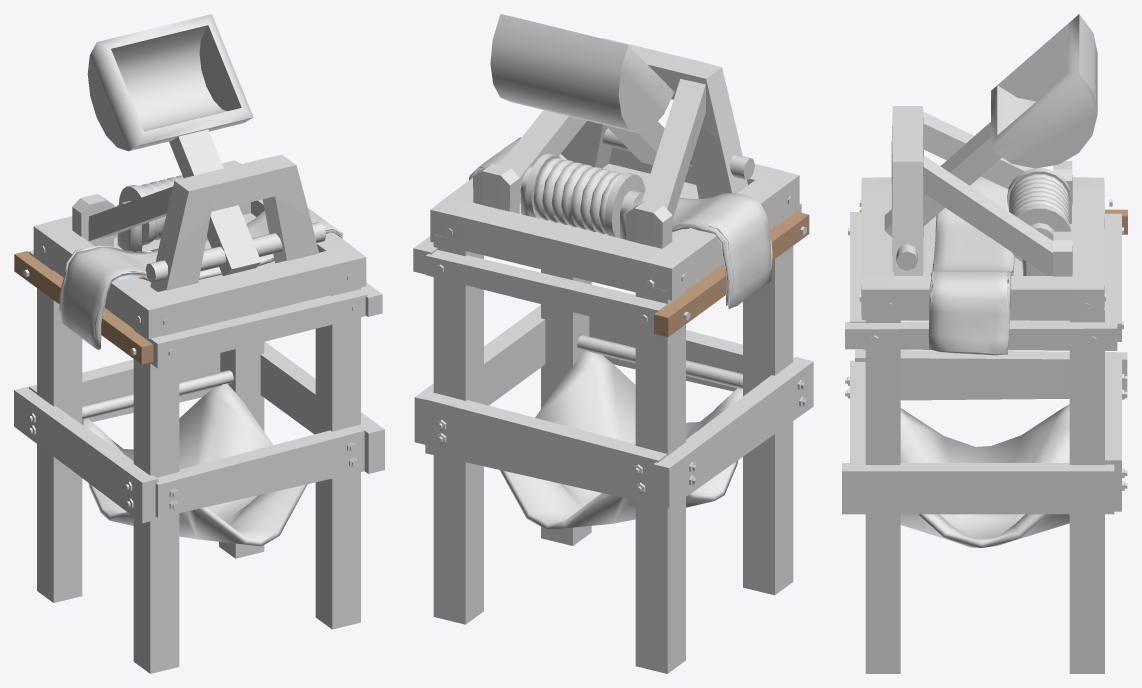
File: areatower.fbx
The picture shows the model from 3 angles, left to right: view 1: azimuth 30°, elevation 25°; view 2: azimuth 150°, elevation 25°; view 3: azimuth 270°, elevation 25°; orthographic projection. The views are drawn at different scales.
Parts seen in each view (by area): view 1: Cube.369, Cylinder.088; view 2: Cube.369, Cylinder.088; view 3: Cube.369, Cylinder.088.
Part boxes in pixels (x1,y1,x2,y2): Cube.369: [14, 154, 384, 673]; Cylinder.088: [87, 14, 261, 275]; Cube.369: [413, 38, 813, 673]; Cylinder.088: [490, 14, 674, 164]; Cube.369: [842, 106, 1127, 673]; Cylinder.088: [884, 14, 1097, 237].
Size of what is drawn, in the model's own units: 432 by 883 by 397.
